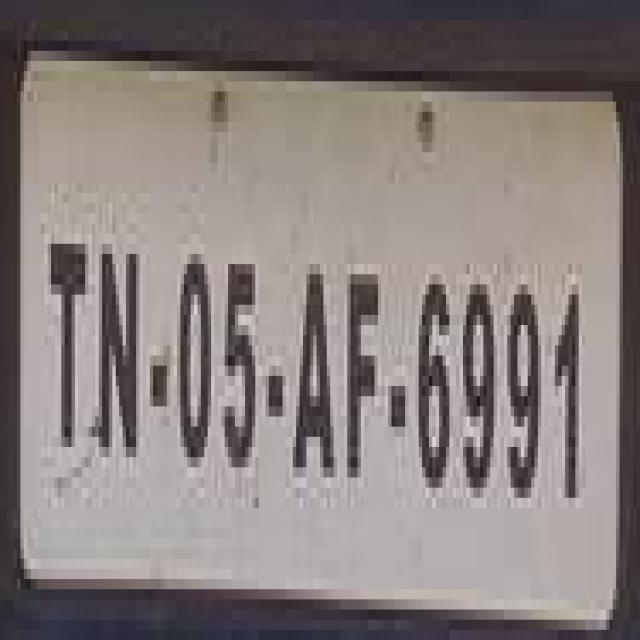license_plate: (34, 91, 623, 579)
